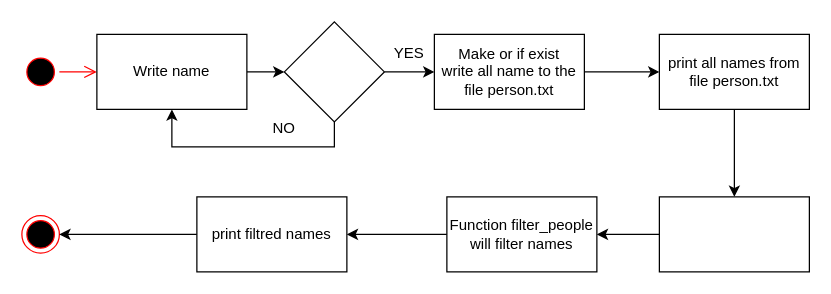
This 831x294 diagram has some shape labels left out. Here are the shapes that lost their labels. From the top down, the centre of each, then its label:
At point (333, 71): "If write 'end'".
At point (733, 234): "Write one letter for filter names".
